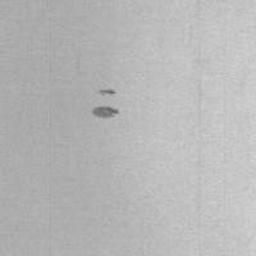Oil spot: (91, 105, 122, 120), (95, 88, 118, 97)
